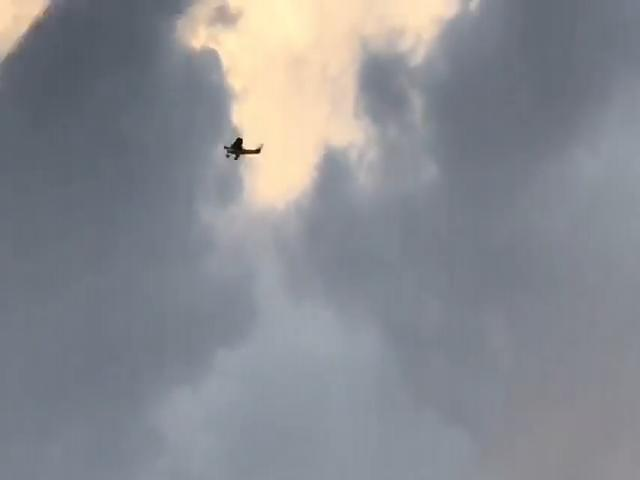plane: (222, 137, 262, 162)
